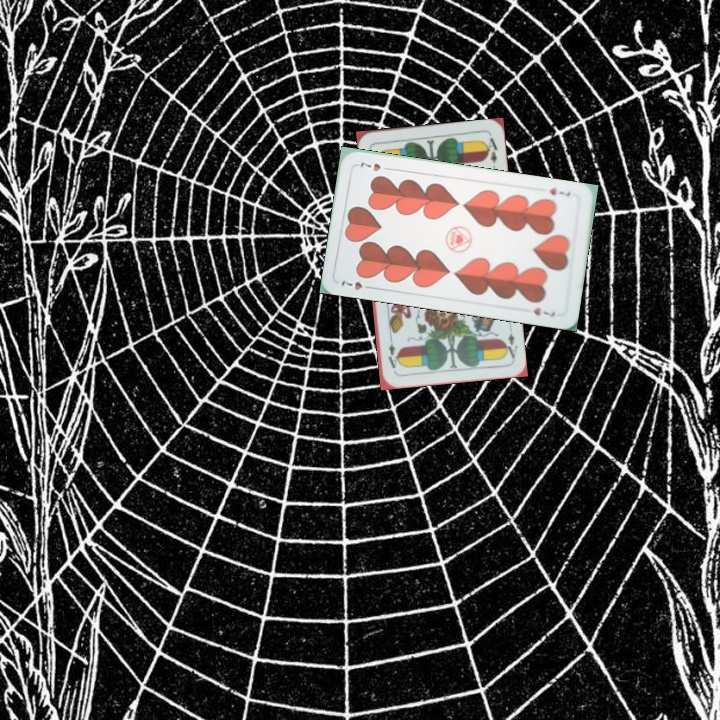EA: (500, 329, 521, 361)
H7: (337, 277, 376, 293), (546, 184, 573, 199)
